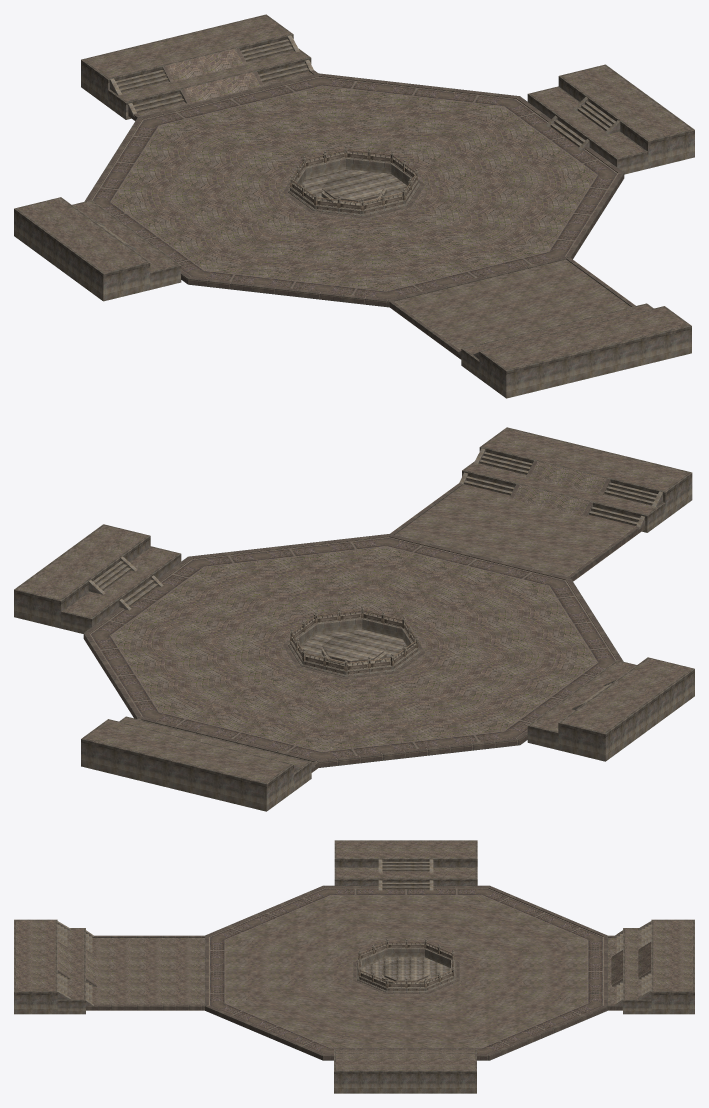
File: cj_jang_gate.remaster.glb
The picture shows the model from 3 angles, top to bottom: view 1: azimuth 30°, elevation 25°; view 2: azimuth 150°, elevation 25°; view 3: azimuth 270°, elevation 25°; orthographic projection. The views are drawn at different scales.
Parts seen in each view (by area): view 1: cj_jang_gate07, cj_jang_gate06, cj_jang_gate08, basin_lod0, rail_lod0, pillar_base_lod0; view 2: cj_jang_gate07, cj_jang_gate06, cj_jang_gate08, basin_lod0, rail_lod0, pillar_base_lod0; view 3: cj_jang_gate07, cj_jang_gate08, cj_jang_gate06, basin_lod0, rail_lod0, pillar_base_lod0.
Boxes of the visible parts, <box> form: cj_jang_gate07: <box>18,16,691,369</box>; cj_jang_gate06: <box>14,14,694,398</box>; cj_jang_gate08: <box>84,48,635,359</box>; basin_lod0: <box>288,158,420,216</box>; rail_lod0: <box>289,146,418,210</box>; pillar_base_lod0: <box>321,173,386,204</box>; cj_jang_gate07: <box>17,428,691,782</box>; cj_jang_gate06: <box>14,427,694,811</box>; cj_jang_gate08: <box>83,460,644,772</box>; basin_lod0: <box>288,618,420,676</box>; rail_lod0: <box>290,606,418,671</box>; pillar_base_lod0: <box>321,634,386,667</box>; cj_jang_gate07: <box>16,841,692,1070</box>; cj_jang_gate08: <box>57,885,651,1060</box>; cj_jang_gate06: <box>14,840,694,1093</box>; basin_lod0: <box>357,948,455,992</box>; rail_lod0: <box>358,939,454,987</box>; pillar_base_lod0: <box>382,960,430,983</box>.
Size of the model in its own units: 106 by 4.71 by 132.
6 materials, 6 textured.
